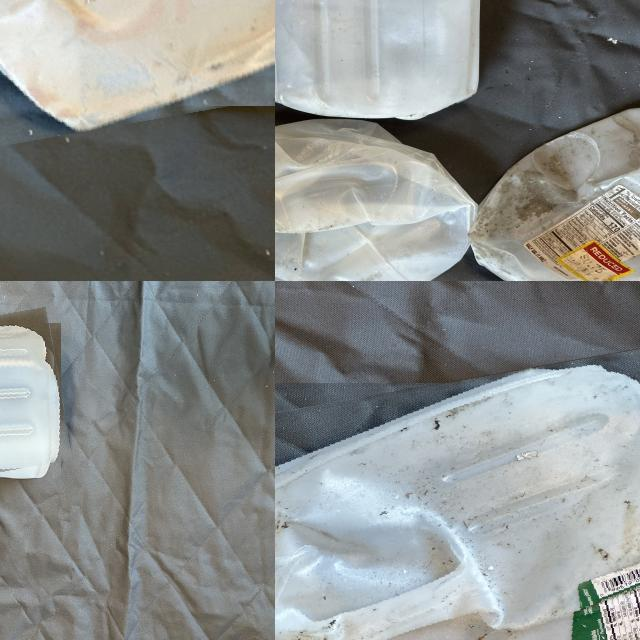milk-jug: (275, 360, 640, 640), (275, 109, 480, 281), (0, 0, 275, 127), (465, 101, 640, 281), (275, 0, 476, 117), (0, 314, 67, 486)
